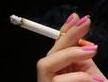smoke: (8, 13, 98, 54)
